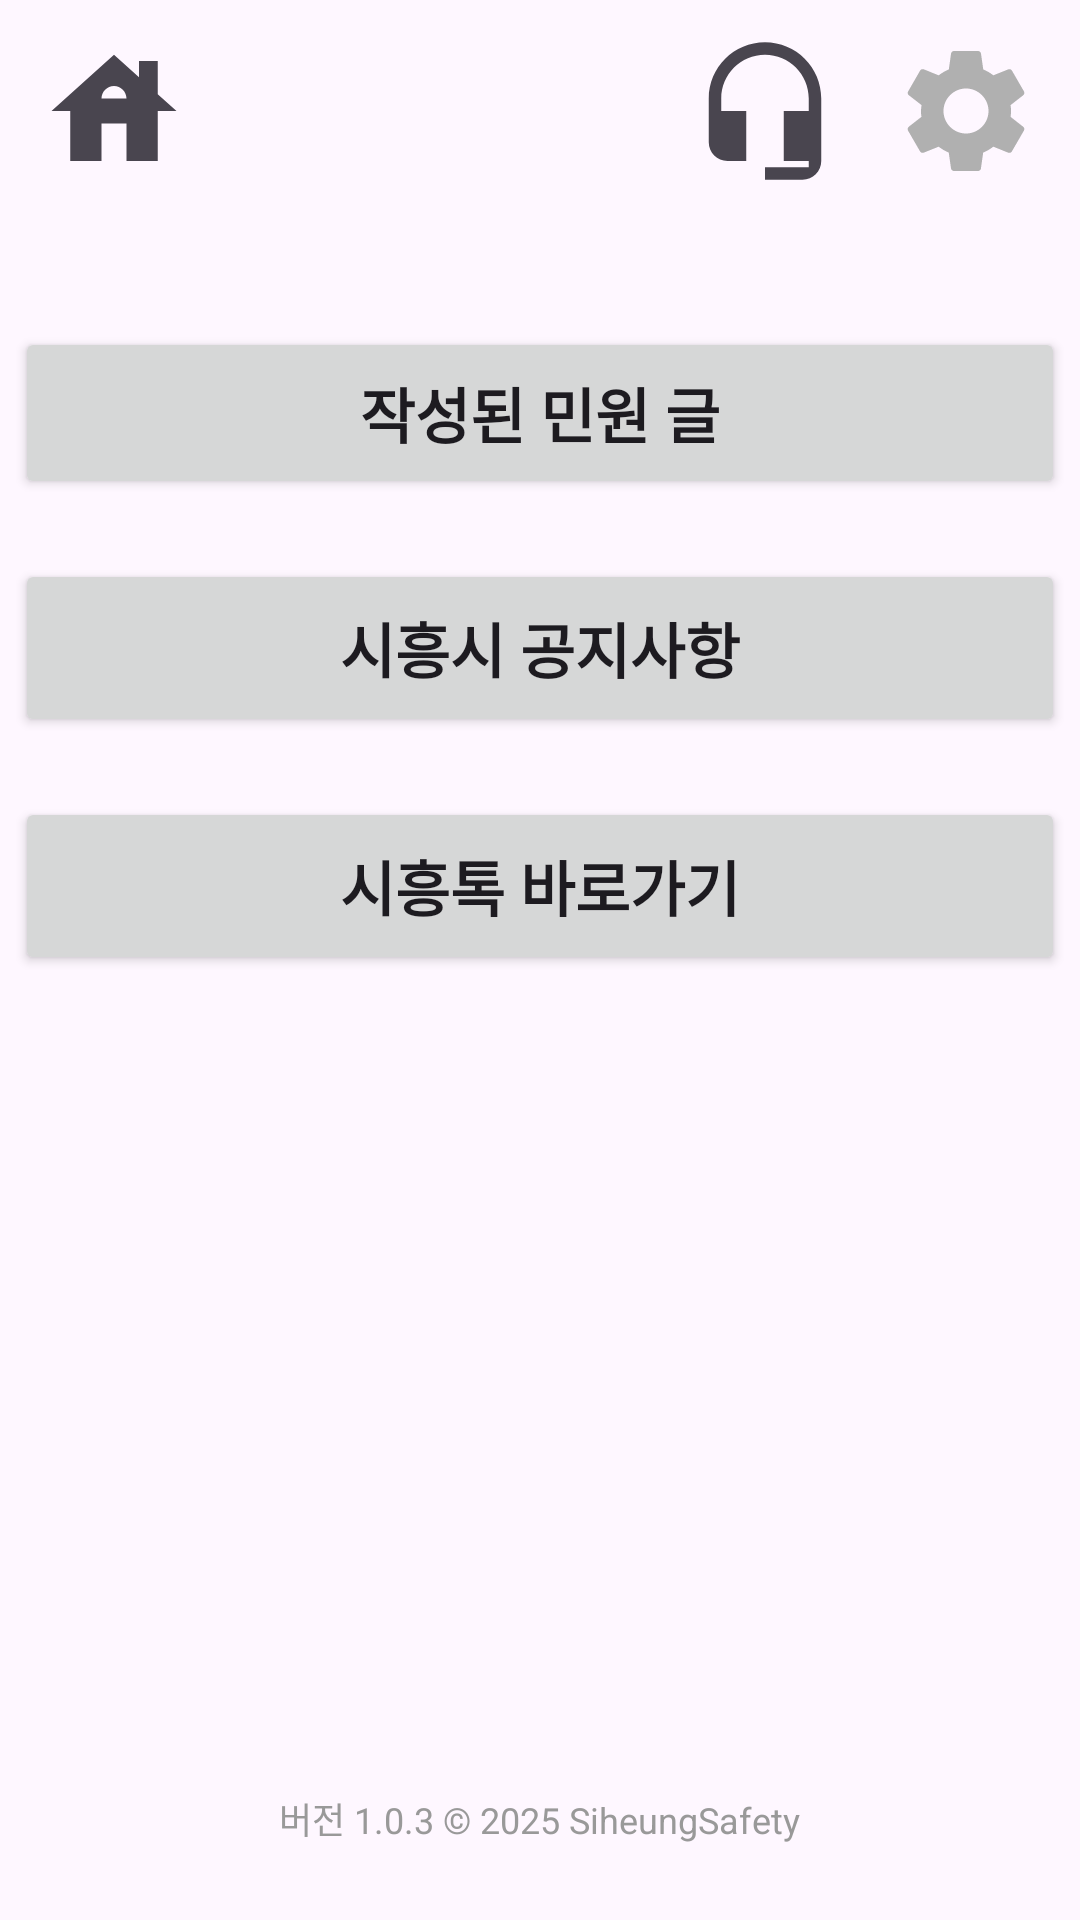

Locate icon controls on the screen. Image size 1080×1920, boxes as (x1, y1, x2, y2).
headset mic: (708, 42, 822, 180)
home: (52, 55, 176, 161)
settings: (908, 51, 1024, 171)
